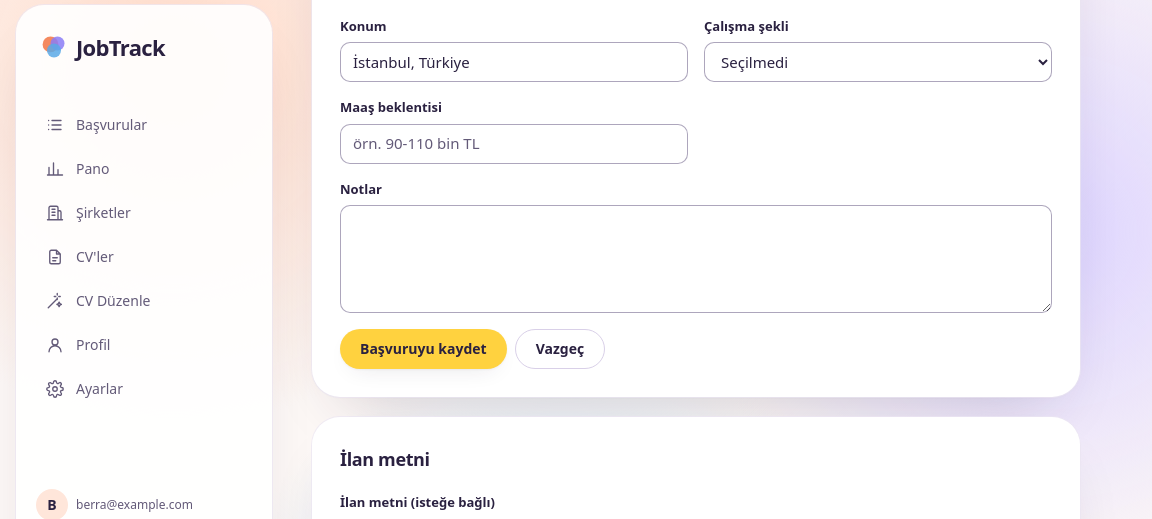
Scenario: yeni başvuru formunun önceden dolması (FR-22) › ilan metni kaydedilemezse çift kayıt yerine başvuruya bağlantı gösterir
(page scrolled)
Click the button "Başvuruyu kaydet". click: (423,349)
box: x1=340 y1=329 x2=507 y2=369
(page scrolled)
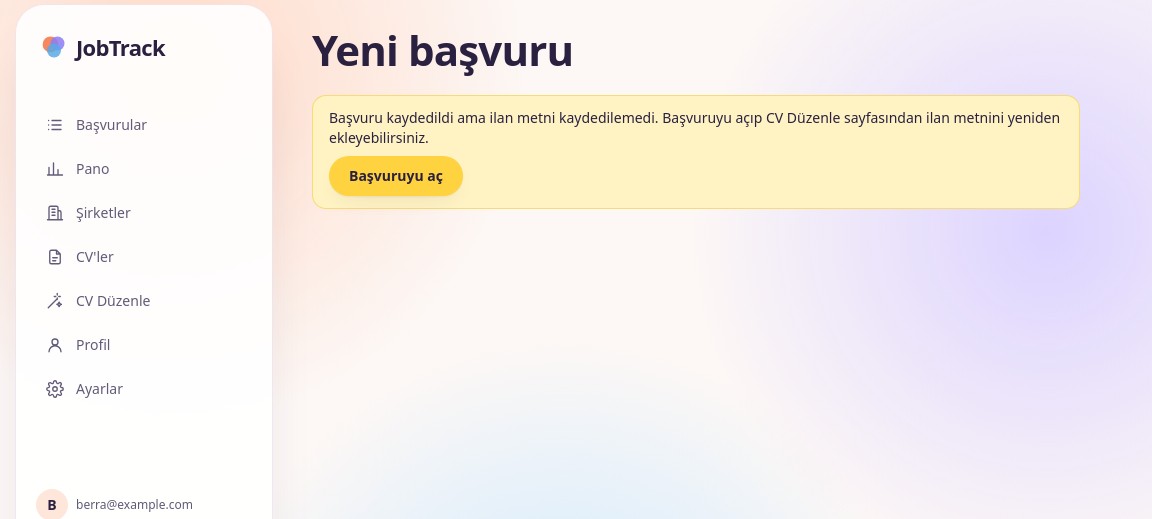
Check: the text "ilan metni kaydedilemedi" is shown, box x1=329 y1=108 x2=1060 y2=147
Check: the button "Başvuruyu kaydet" is gone
